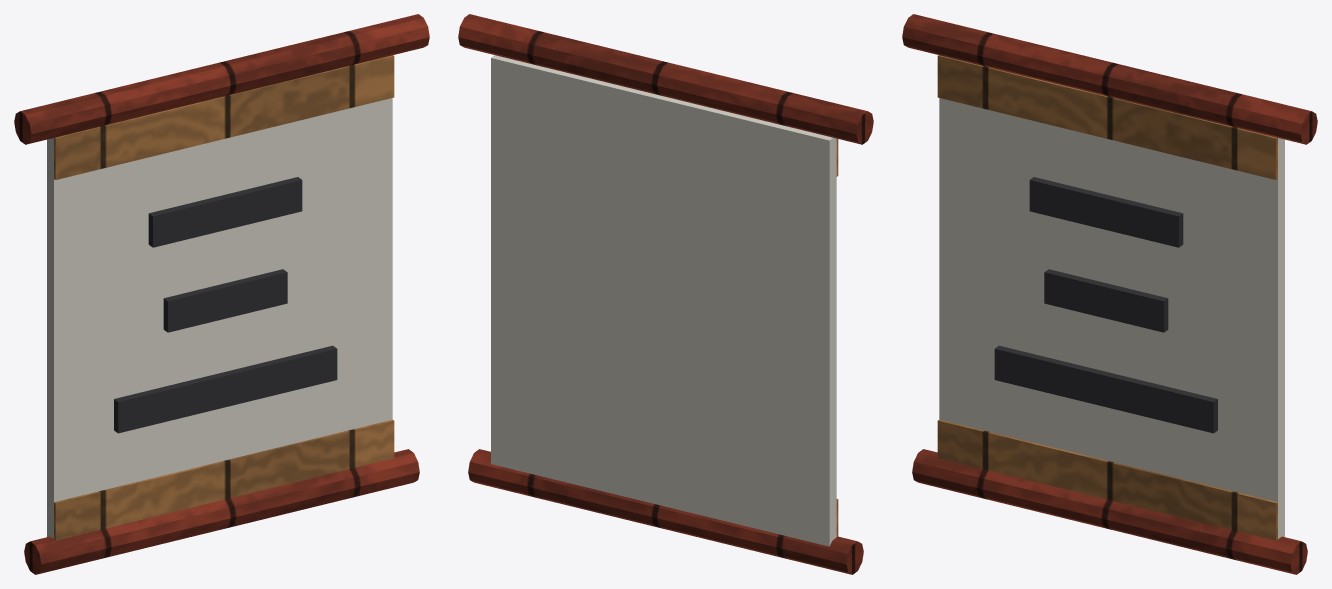
File: Sign_Japanese_3.fbx
3 views of the same model, side by side, from view 1: azimuth 30°, elevation 25°; view 2: azimuth 150°, elevation 25°; view 3: azimuth 330°, elevation 25° (orthographic).
Visible parts, largest first — view 1: Sign_Japanese_3; view 2: Sign_Japanese_3; view 3: Sign_Japanese_3.
Part boxes in pixels (box(x1,y1,x2,y2)): Sign_Japanese_3: box(14, 14, 429, 574); Sign_Japanese_3: box(458, 14, 873, 574); Sign_Japanese_3: box(902, 14, 1317, 574).
Size of the model in its own units: 0.8 by 0.8871 by 0.06.
4 materials, 2 textured.
